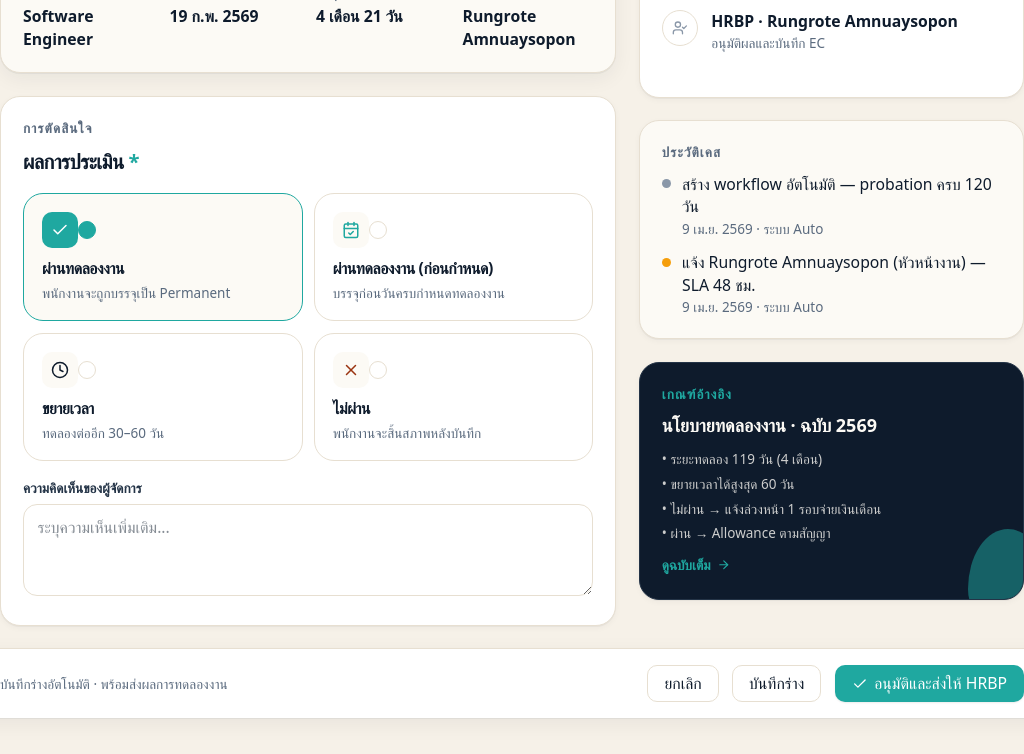
Test: ProbationDetailPage — STA-125 pass-probation feedback › disables submit for no_pass until a free-text fail reason is entered
(page scrolled)
Click the button "ไม่ผ่าน พนักงานจะสิ้นสภาพหลังบันทึก" at (351, 370), box x1=314 y1=333 x2=593 y2=461
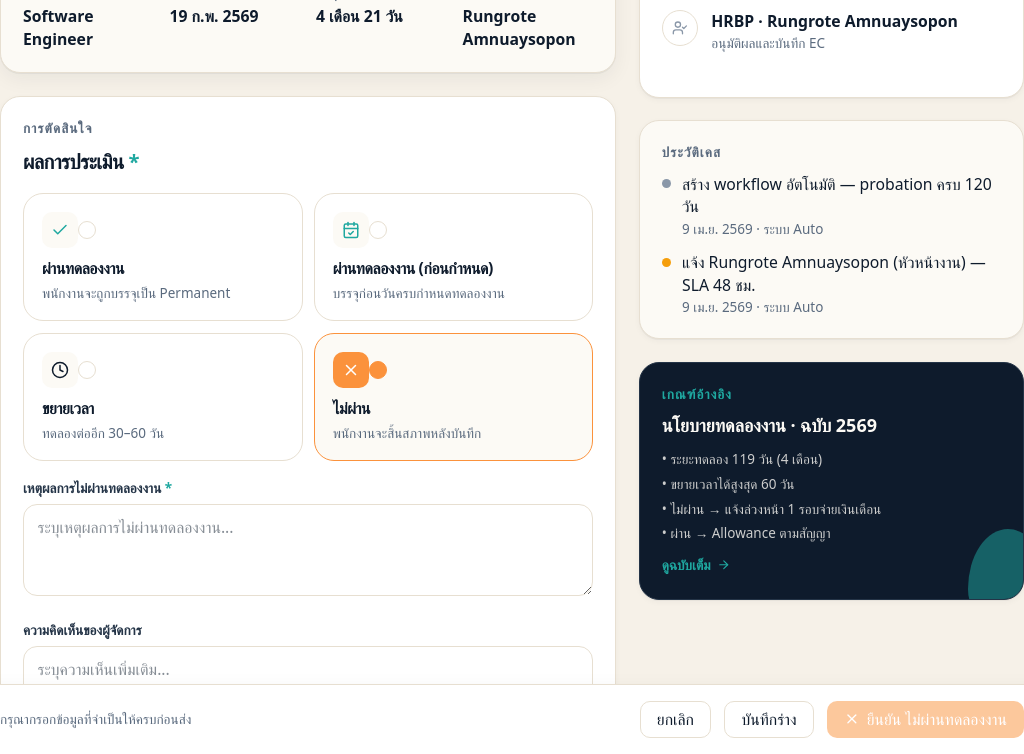
Now the button "ยืนยัน ไม่ผ่านทดลองงาน" is disabled, box x1=827 y1=701 x2=1023 y2=738
Type "ผลงานไม่ถึงเป้าหมาย" into the text box labelled "ระบุเหตุผลการไม่ผ่านทดลองงาน..." at (308, 550), box x1=23 y1=504 x2=593 y2=596
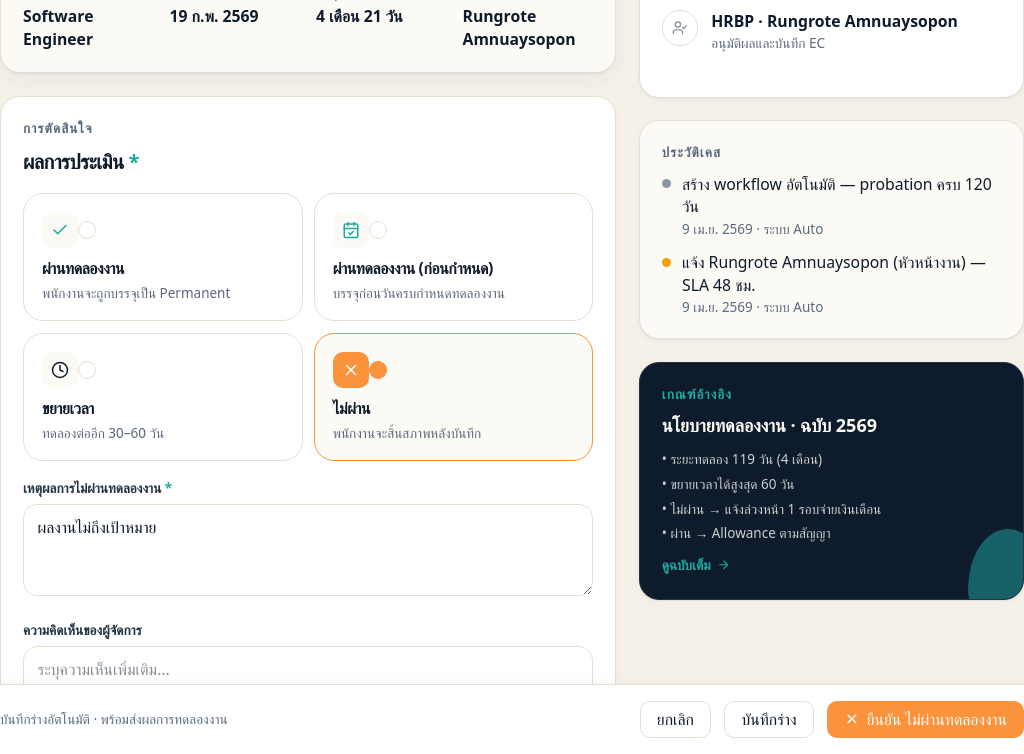
Now the button "ยืนยัน ไม่ผ่านทดลองงาน" is enabled, box x1=827 y1=701 x2=1023 y2=738
